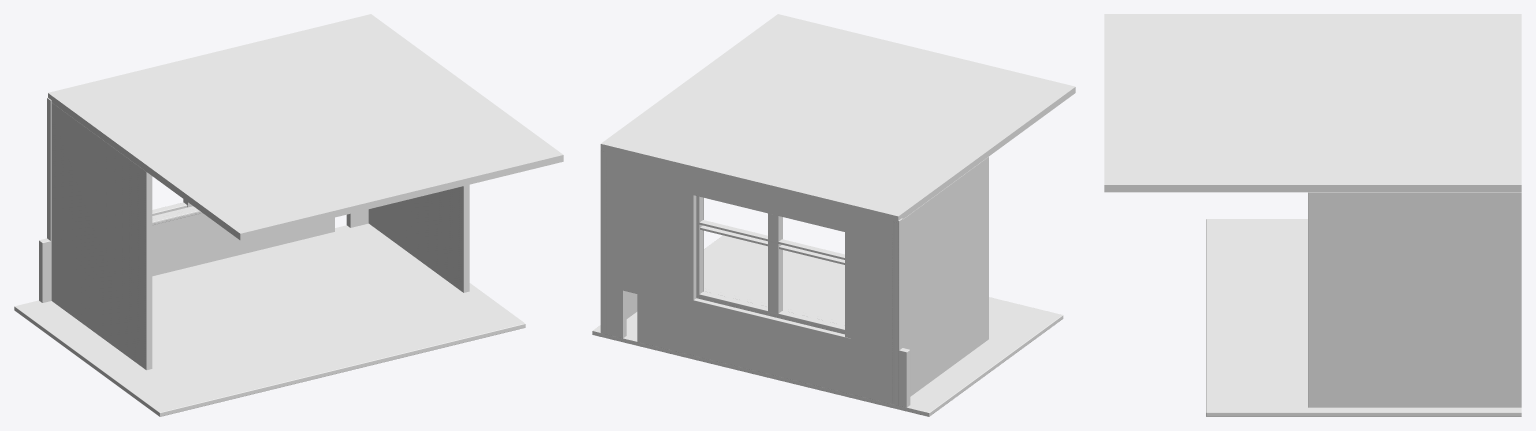
Rendered from architecture-uv.glb.
3 renders of one model, left to right at view 1: azimuth 30°, elevation 25°; view 2: azimuth 150°, elevation 25°; view 3: azimuth 270°, elevation 25°, orthographic. The views are drawn at different scales.
Parts seen in each view (by area): view 1: UVReference_Room_Ceiling, UVReference_Room_Floor, UVReference_Room_LeftWall, UVReference_Room_RightWall, UVReference_Window_WallBelow, UVReference_Window_LeftPier; view 2: UVReference_Room_Ceiling, UVReference_Room_LeftWall, UVReference_Window_WallBelow, UVReference_Room_Floor, UVReference_Window_RightPier, UVReference_Window_Header, UVReference_Window_LeftPier, UVReference_Window_RightReturn, UVReference_Room_RightWall, UVReference_Window_Upright.001, UVReference_Window_Rail, UVReference_Window_Rail.001 (+4 smaller); view 3: UVReference_Room_Ceiling, UVReference_Room_RightWall, UVReference_Room_Floor.
Part boxes in pixels (bbox=[...]): UVReference_Room_Ceiling: bbox=[48, 14, 563, 240]; UVReference_Room_Floor: bbox=[14, 223, 525, 416]; UVReference_Room_LeftWall: bbox=[51, 103, 152, 370]; UVReference_Room_RightWall: bbox=[368, 184, 469, 292]; UVReference_Window_WallBelow: bbox=[39, 213, 334, 302]; UVReference_Window_LeftPier: bbox=[47, 97, 51, 248]; UVReference_Room_Ceiling: bbox=[600, 14, 1075, 220]; UVReference_Room_LeftWall: bbox=[892, 156, 988, 405]; UVReference_Window_WallBelow: bbox=[637, 287, 910, 407]; UVReference_Room_Floor: bbox=[592, 235, 1063, 416]; UVReference_Window_RightPier: bbox=[623, 154, 696, 306]; UVReference_Window_Header: bbox=[603, 150, 895, 243]; UVReference_Window_LeftPier: bbox=[851, 209, 902, 357]; UVReference_Window_RightReturn: bbox=[605, 152, 626, 338]; UVReference_Room_RightWall: bbox=[600, 150, 637, 333]; UVReference_Window_Upright.001: bbox=[768, 213, 782, 314]; UVReference_Window_Rail: bbox=[696, 291, 844, 332]; UVReference_Window_Rail.001: bbox=[696, 220, 844, 259]; UVReference_Room_Ceiling: bbox=[1104, 14, 1521, 192]; UVReference_Room_RightWall: bbox=[1308, 192, 1521, 407]; UVReference_Room_Floor: bbox=[1206, 219, 1521, 416].
Bounding box in the file's own units: 9 × 4.92 × 8.2.
29 materials, 29 textured.
